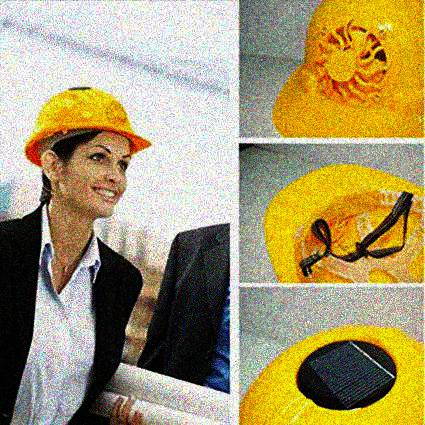helmet: (25, 84, 152, 217)
